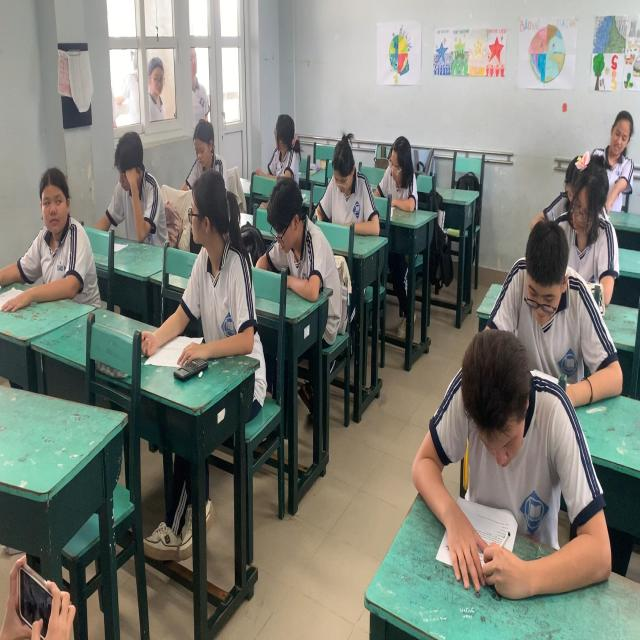cheating: (157, 154, 267, 392)
not_cheating: (432, 317, 558, 549), (512, 183, 606, 412), (0, 145, 99, 359), (238, 134, 336, 334), (90, 103, 182, 284), (533, 134, 625, 311), (305, 101, 391, 254), (367, 99, 452, 248), (160, 80, 247, 223), (246, 70, 327, 210), (586, 86, 640, 205)
